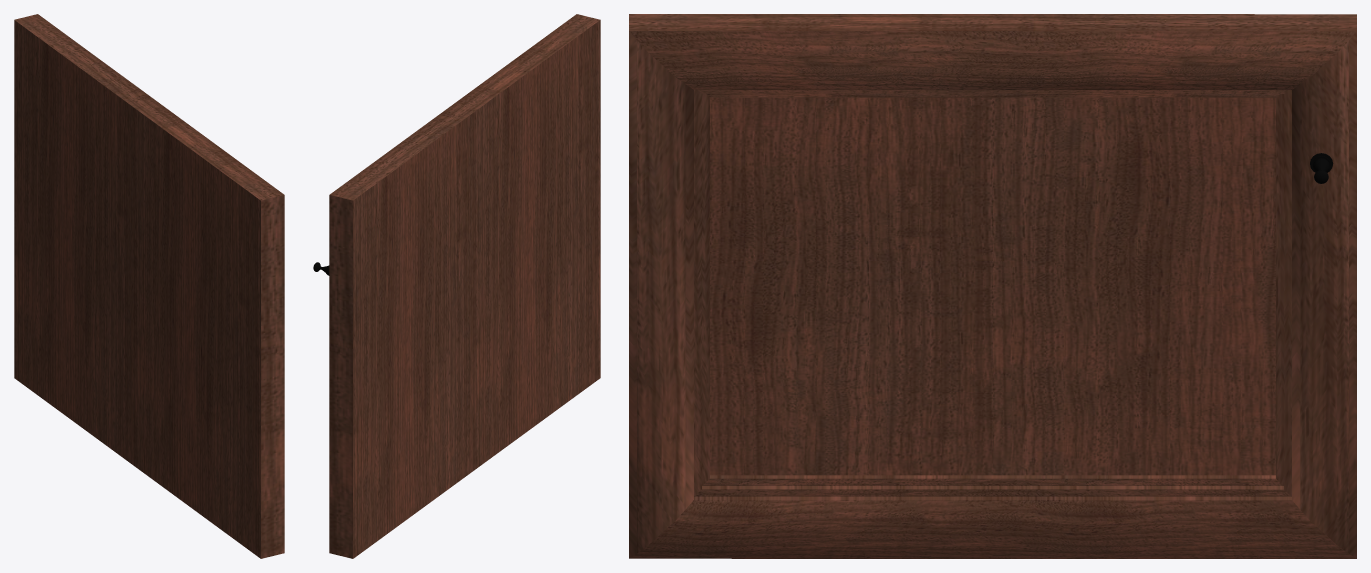
Rendered from garderobe_tuer.fbx.
The picture shows the model from 3 angles, left to right: view 1: azimuth 30°, elevation 25°; view 2: azimuth 150°, elevation 25°; view 3: azimuth 270°, elevation 25°; orthographic projection. The views are drawn at different scales.
Visible parts, largest first — view 1: Rectangle075; view 2: Rectangle075; view 3: Rectangle075.
Part boxes in pixels (<box>): Rectangle075: <box>14,14,284,558</box>; Rectangle075: <box>313,14,600,558</box>; Rectangle075: <box>629,14,1356,558</box>.
Size of the model in its own units: 0.0538 by 0.3606 by 0.4507.
